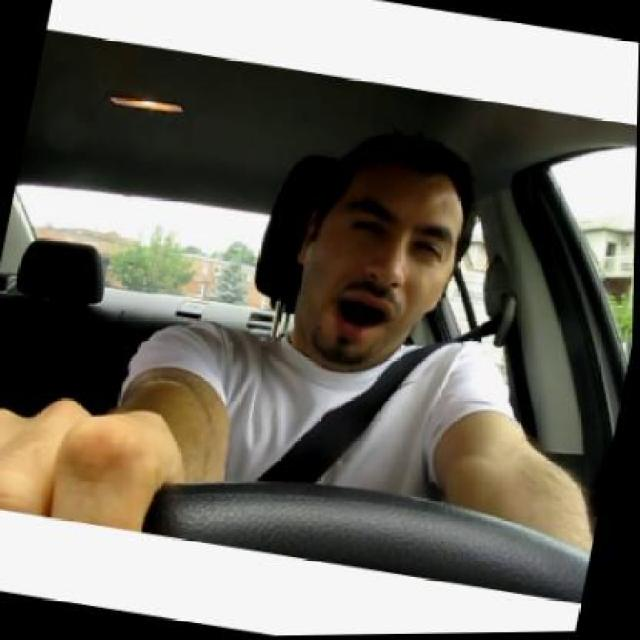inattentif: (279, 115, 481, 382)
